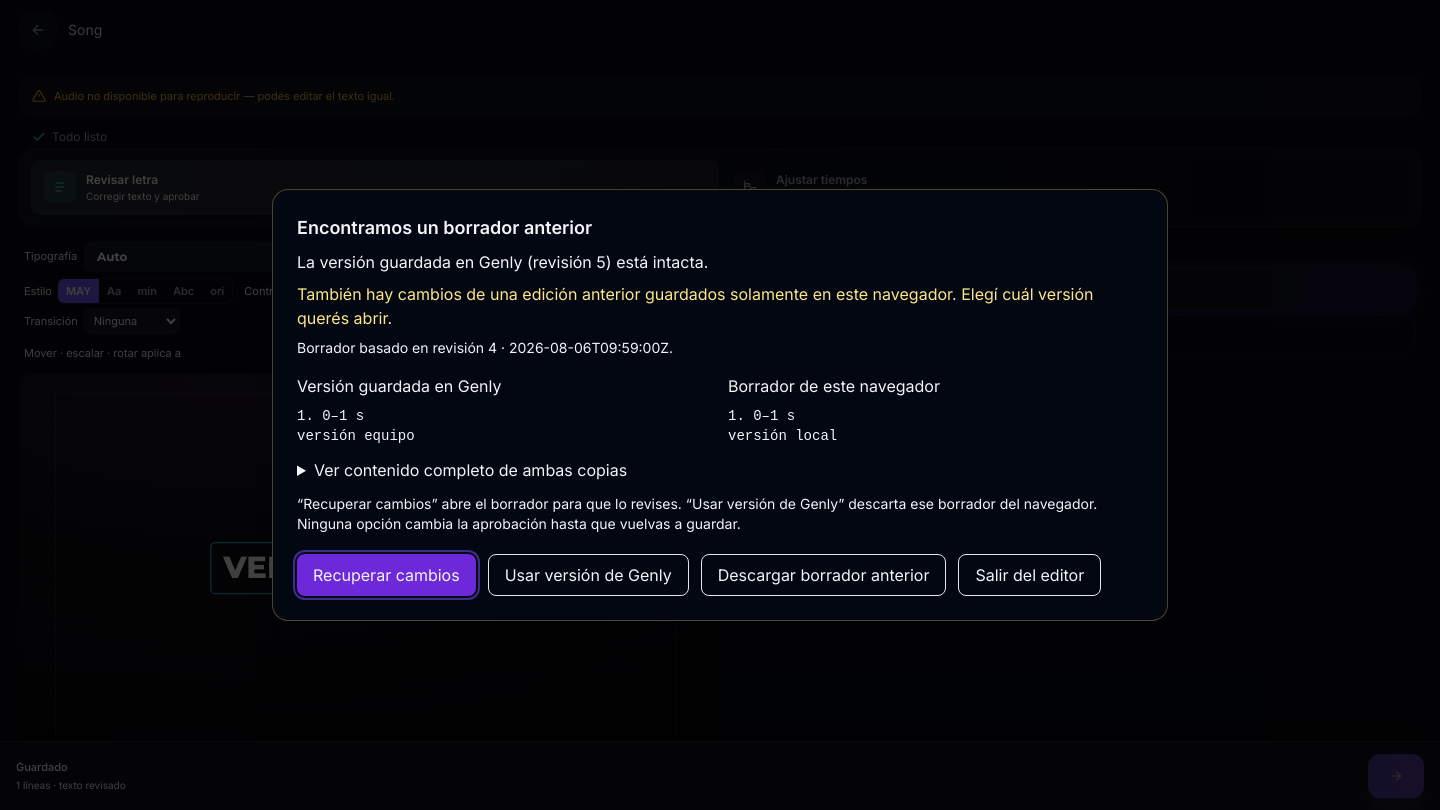
Test: local recovery is separate from server save status › preserves a copy changed by another tab before a discard click
The width and height of the screenshot is (1440, 810).
What coordinates should you click on to do the following:
click the button "Usar versión de Genly"
I would click on:
 (588, 575)
Its box is [488,554,689,596].
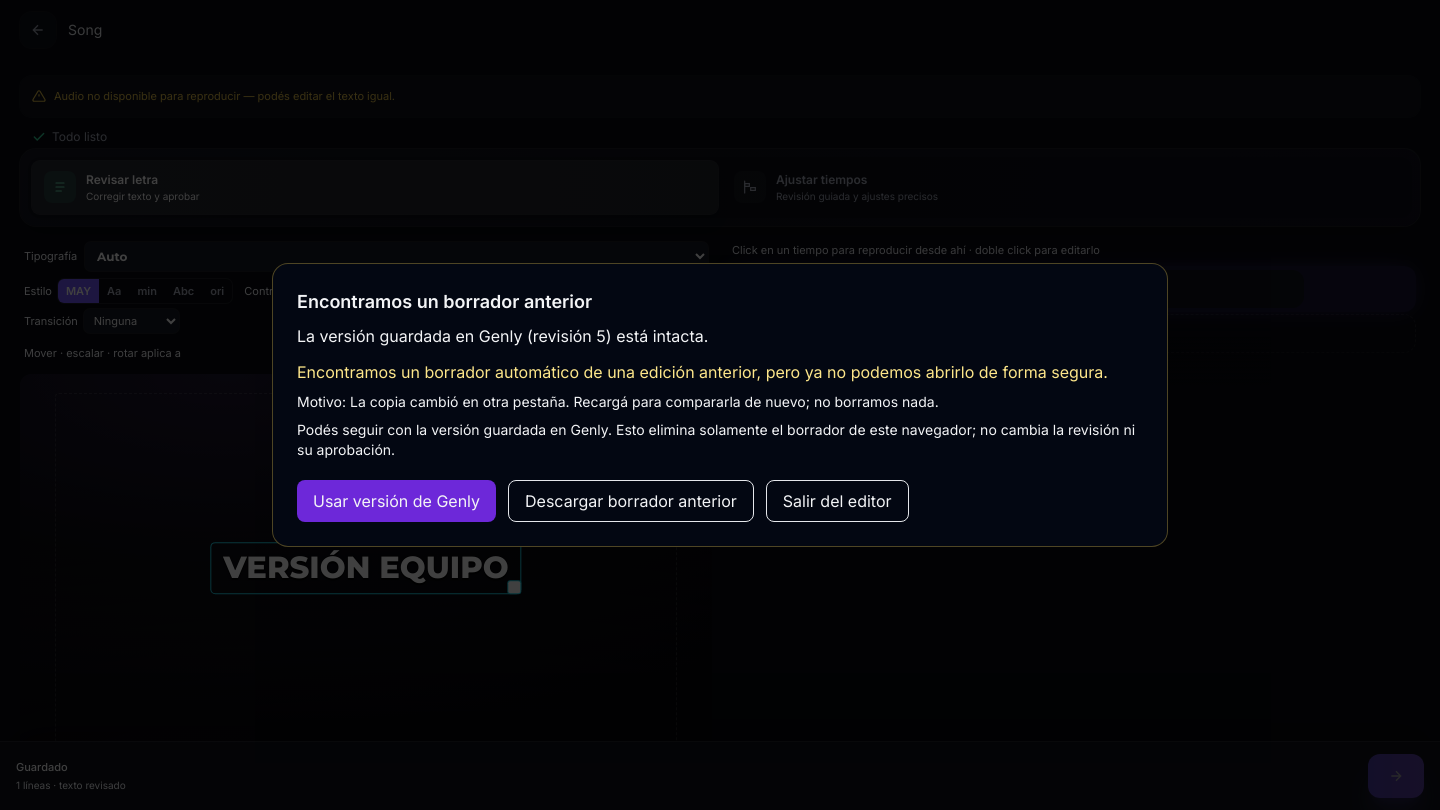
Expected: the text "La copia cambió en otra pestaña" is shown, [350,393,939,410]
